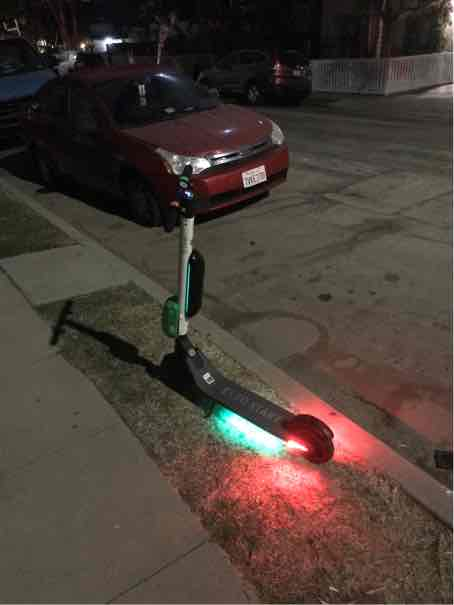scooter: (127, 150, 342, 467)
